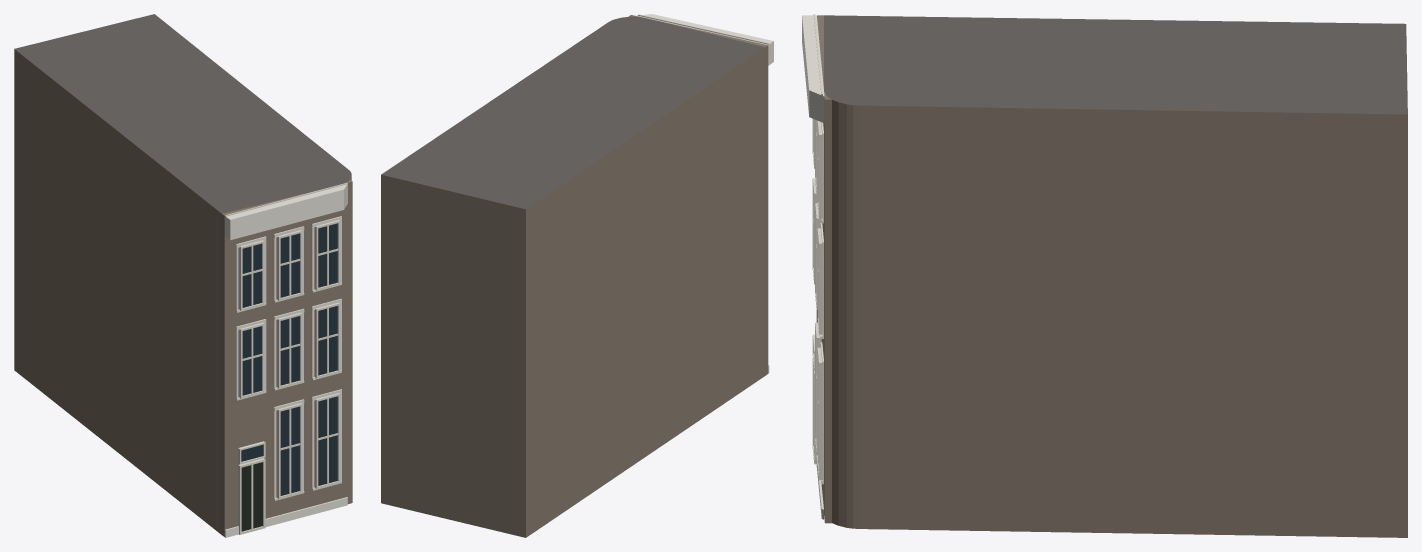
The picture shows the model from 3 angles, left to right: view 1: azimuth 30°, elevation 25°; view 2: azimuth 150°, elevation 25°; view 3: azimuth 270°, elevation 25°; orthographic projection. The views are drawn at different scales.
Visible parts, largest first — view 1: spec-0363100012177535; view 2: spec-0363100012177535; view 3: spec-0363100012177535.
Part boxes in pixels (left/top/right/bottom): spec-0363100012177535: left=14, top=14, right=352, bottom=537; spec-0363100012177535: left=381, top=14, right=773, bottom=537; spec-0363100012177535: left=802, top=14, right=1407, bottom=537.
Size of the model in its own units: 6.33 by 12.64 by 16.34.
